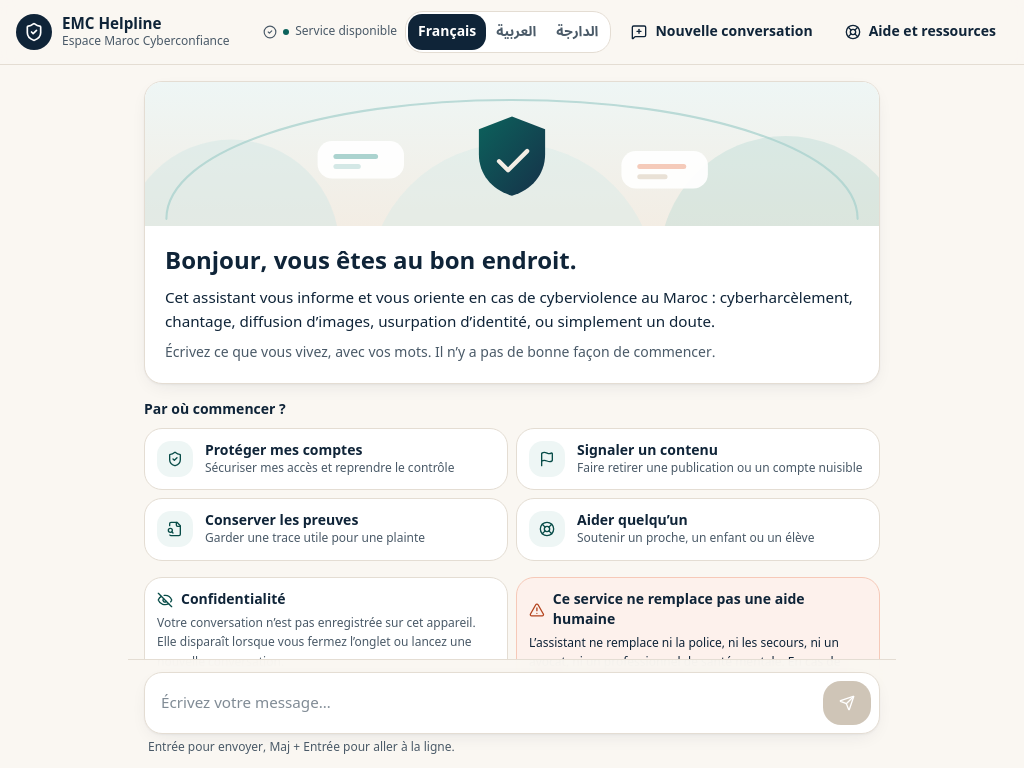
Test: sources › degrades gracefully when path, category and score are all absent
The image size is (1024, 768).
Step 1. Type "Question" into the text box labelled "votre message" → (484, 703), box [153,681,815,725]
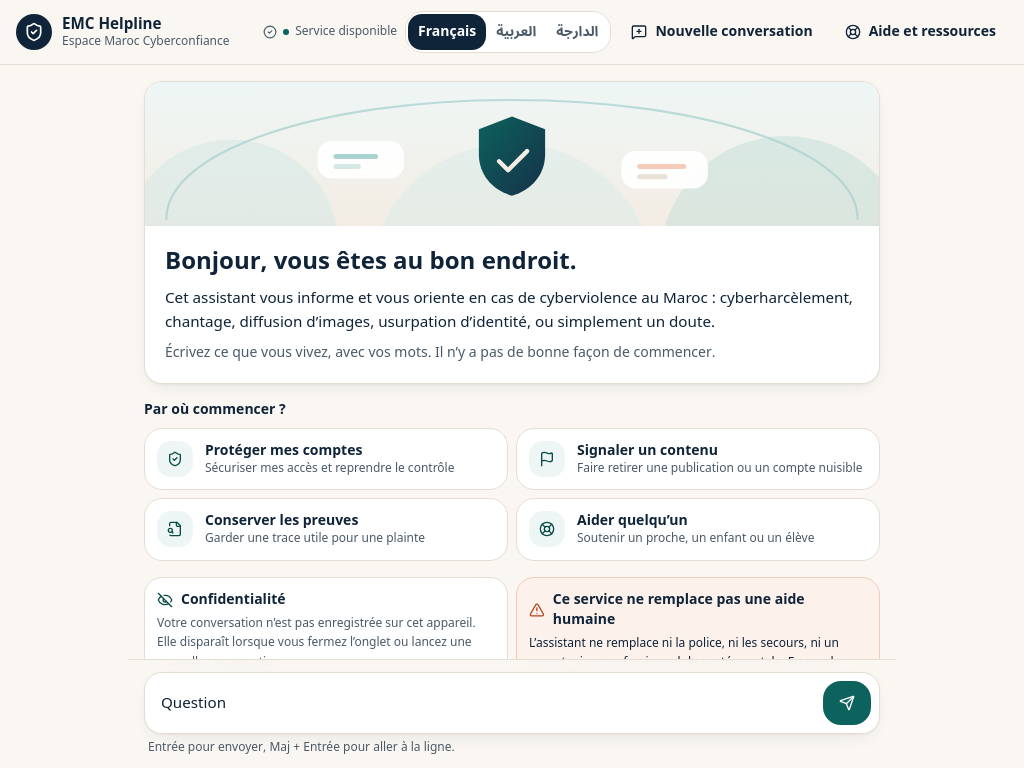
Step 2. Press Enter
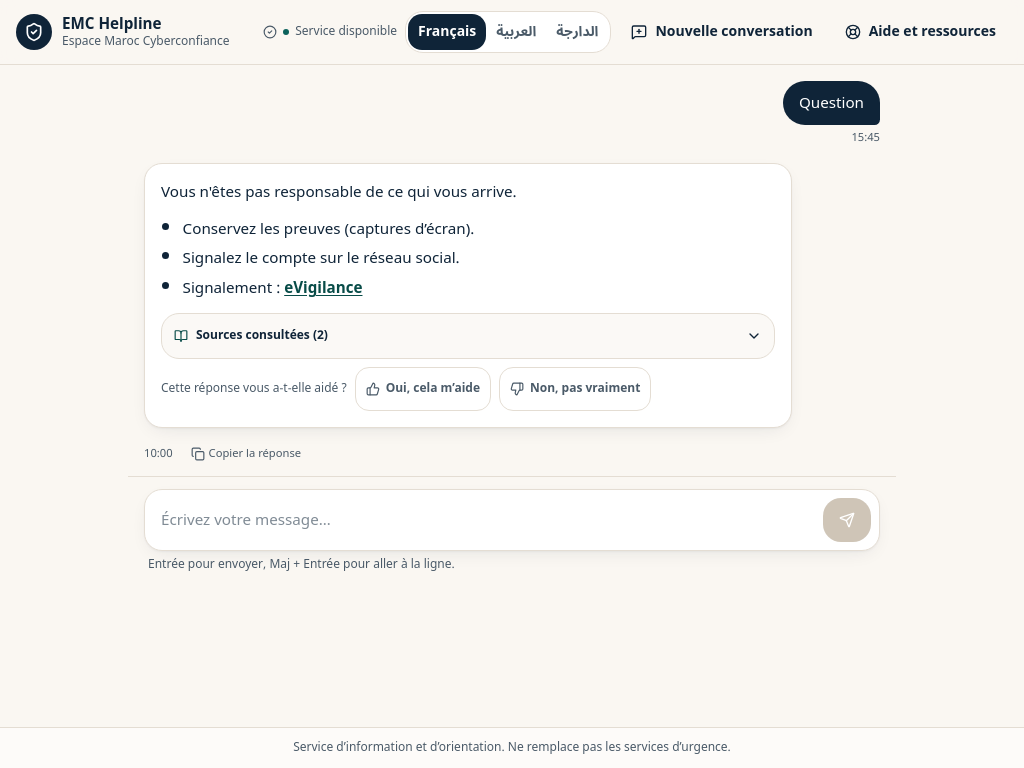
Step 3. Click the heading "Sources consultées (2)" → (262, 335), box [174,323,762,348]
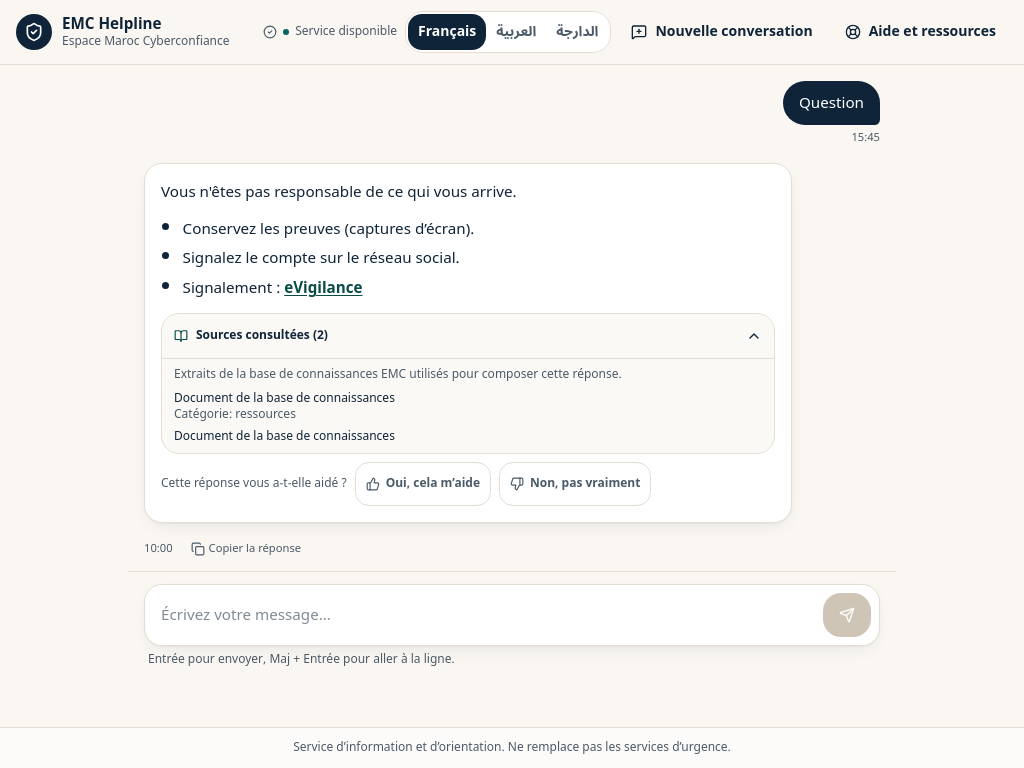
Check: the text "Document de la base de connaissances" is shown 2 times, box [174,386,395,411]; [174,424,395,449]
Check: the text "Sources consultées (2)" shows "Catégorie: ressources", box [161,313,775,454]
